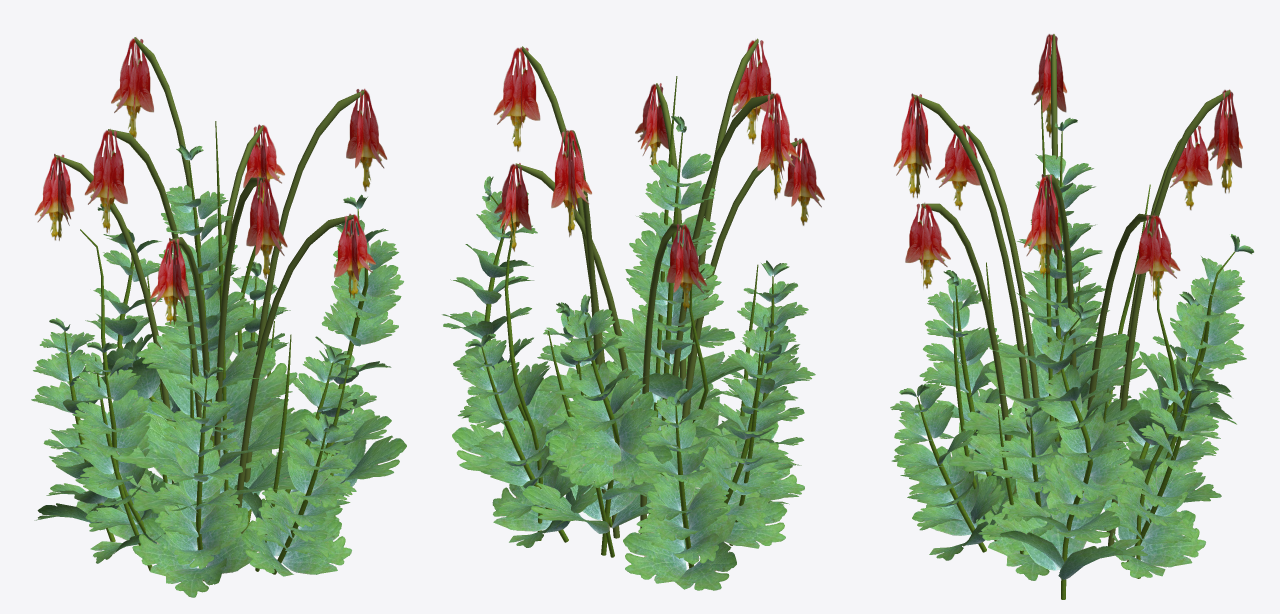
File: American_Columbine.glb
3 renders of one model, left to right at view 1: azimuth 30°, elevation 25°; view 2: azimuth 150°, elevation 25°; view 3: azimuth 270°, elevation 25°, orthographic. The views are drawn at different scales.
Parts seen in each view (by area): view 1: Bark_spring_0, Bark_spring_0.002; view 2: Bark_spring_0, Bark_spring_0.002; view 3: Bark_spring_0, Bark_spring_0.002.
Boxes of the visible parts, bbox=[...] form: Bark_spring_0: bbox=[31, 37, 406, 597]; Bark_spring_0.002: bbox=[80, 121, 348, 571]; Bark_spring_0: bbox=[442, 38, 824, 590]; Bark_spring_0.002: bbox=[504, 76, 760, 557]; Bark_spring_0: bbox=[890, 33, 1253, 599]; Bark_spring_0.002: bbox=[953, 95, 1206, 578].
Bounding box in the file's own units: 0.7001 × 0.9193 × 0.7.
23 materials, 19 textured.
